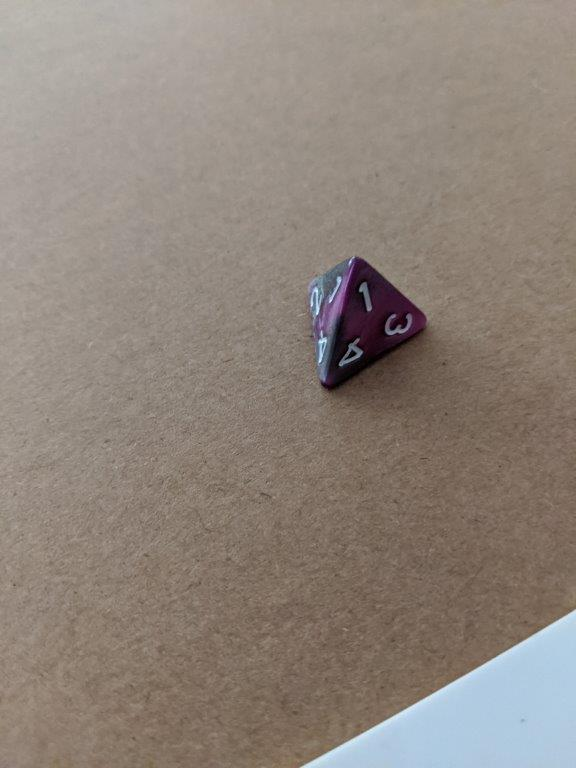d4-1: (301, 251, 434, 394)
